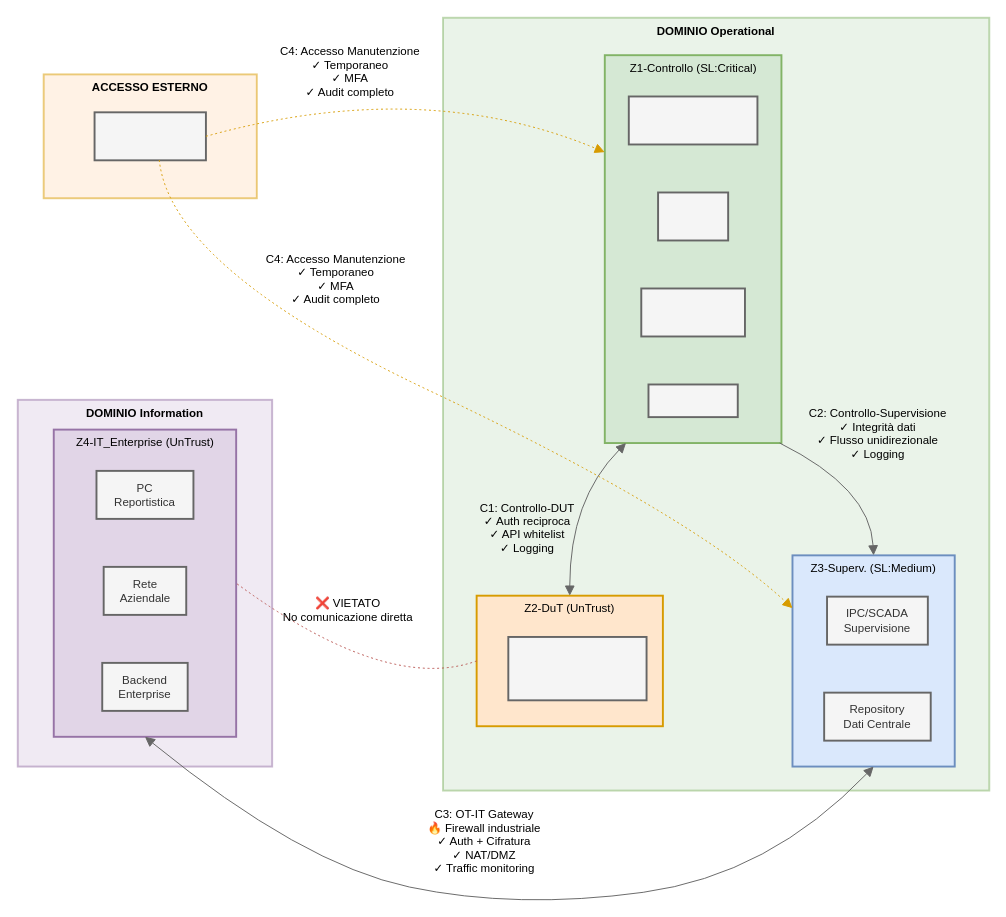
Image size: 1006x917. Some labels were removed from this diagram. The centre of each missing label's shape, as x and y in pixels:
Controller Temperatura: point 692,312
Datalogger: point 692,400
DUT Device Under Test API Ethernet: point 577,668
HMI/IPC Locale: point 693,216
Manutenzione Remota: point 149,136
PLC Siemens S7-1200: point 692,120
